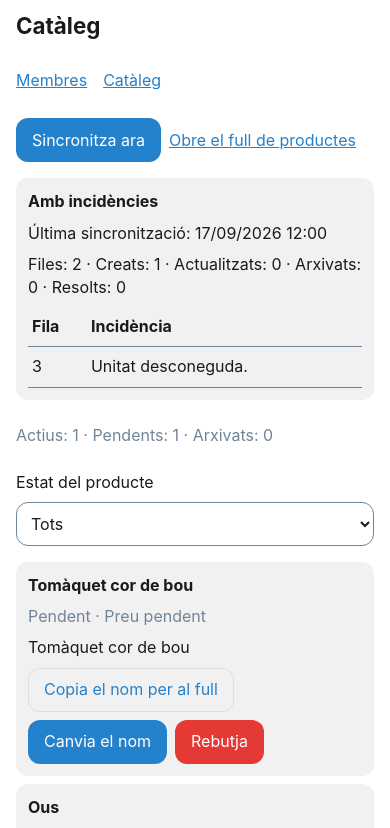
confirms rejection and refreshes the list
Click the button "Rebutja".
click(219, 742)  # box [175,720,264,764]
(page scrolled)
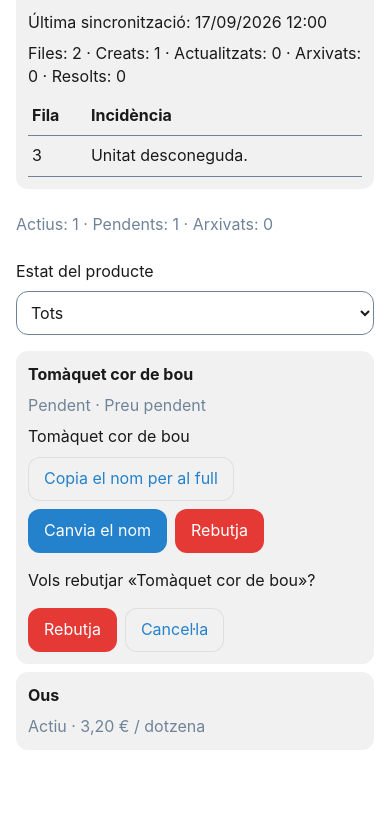
Click the 2nd button "Rebutja".
click(72, 630)  # box [28,608,117,652]
(page scrolled)
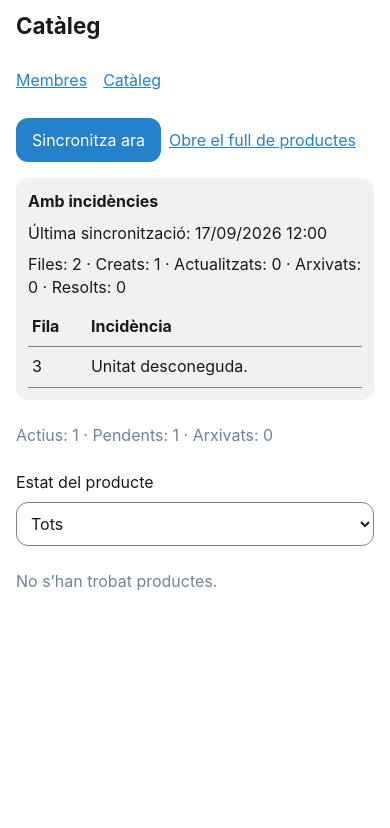
Check: the list item with test id "catalog-product" is gone
